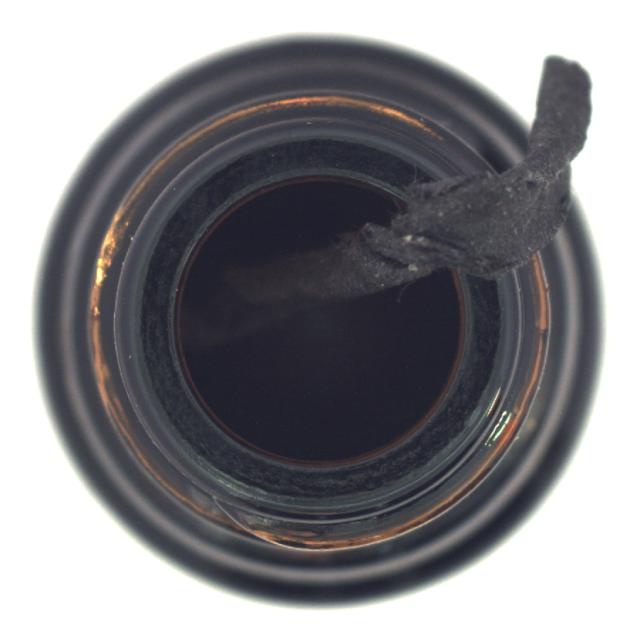bad-contamination: (30, 31, 606, 611)
